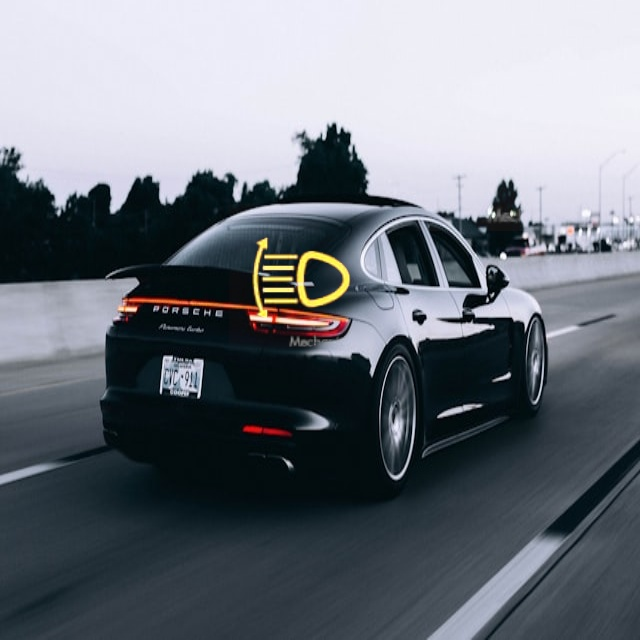symbol: (416, 47, 600, 231), (229, 204, 376, 351)
